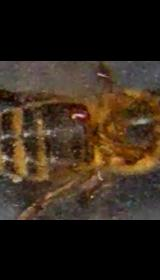varroa_mite: (64, 104, 91, 128)
